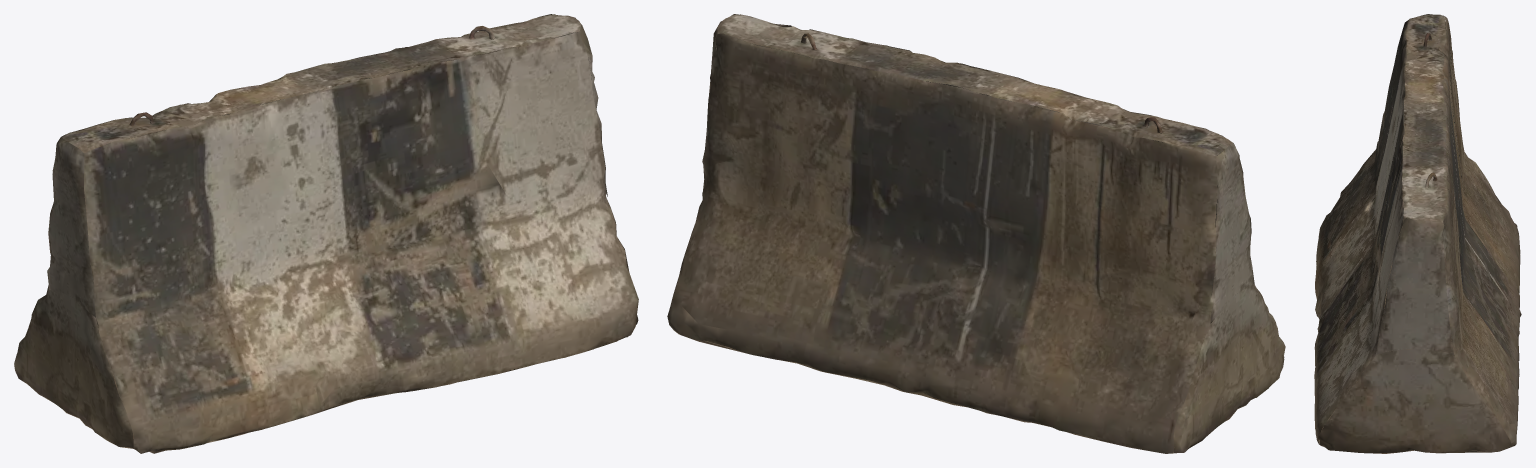
Rendered from concrete_barrier.glb.
3 views of the same model, side by side, from view 1: azimuth 30°, elevation 25°; view 2: azimuth 150°, elevation 25°; view 3: azimuth 270°, elevation 25° (orthographic). The views are drawn at different scales.
Parts seen in each view (by area): view 1: concrete_barrier; view 2: concrete_barrier; view 3: concrete_barrier.
Part boxes in pixels (bbox=[...]): concrete_barrier: bbox=[14, 14, 638, 453]; concrete_barrier: bbox=[667, 14, 1285, 453]; concrete_barrier: bbox=[1314, 14, 1521, 453].
Bounding box in the file's own units: 1.54 × 0.8329 × 0.6358.
1 material, 1 textured.
